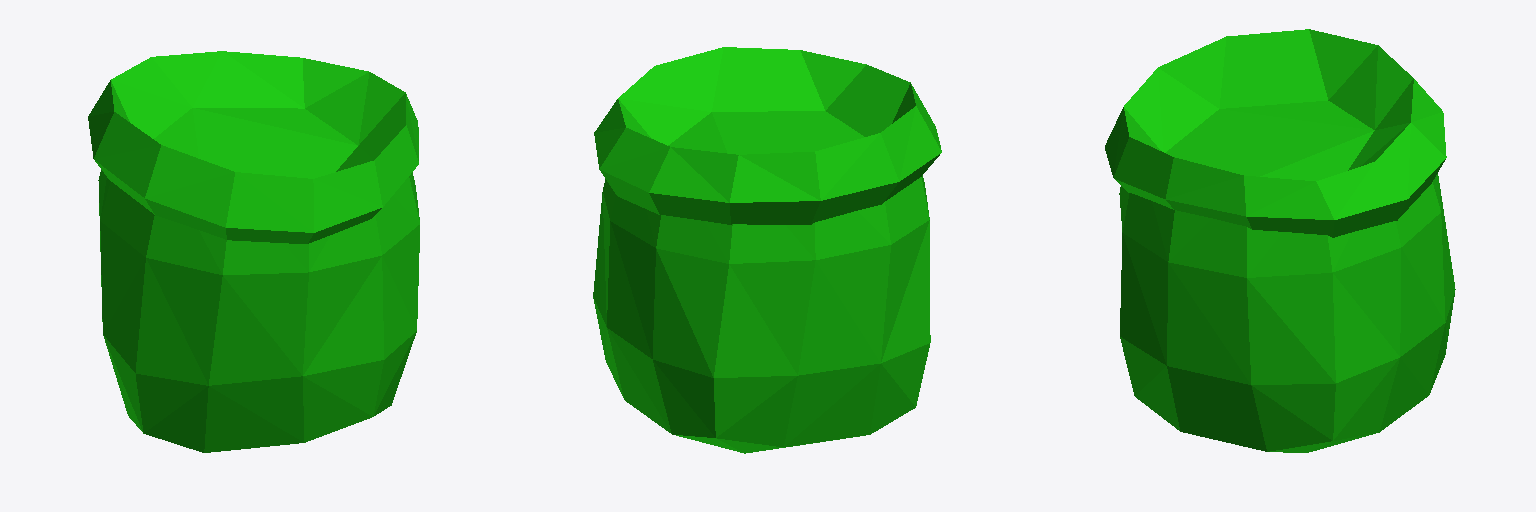
The model's file is bag_004.obj.
The picture shows the model from 3 angles: view 1: azimuth 30°, elevation 25°; view 2: azimuth 150°, elevation 25°; view 3: azimuth 270°, elevation 25°; orthographic projection.
Visible parts, largest first — view 1: bag_004; view 2: bag_004; view 3: bag_004.
Part boxes in pixels (x1,y1,x2,y2): bag_004: (88, 51, 419, 452); bag_004: (593, 47, 941, 453); bag_004: (1105, 29, 1455, 452).
Size of the model in its own units: 0.5327 by 0.5712 by 0.5514.